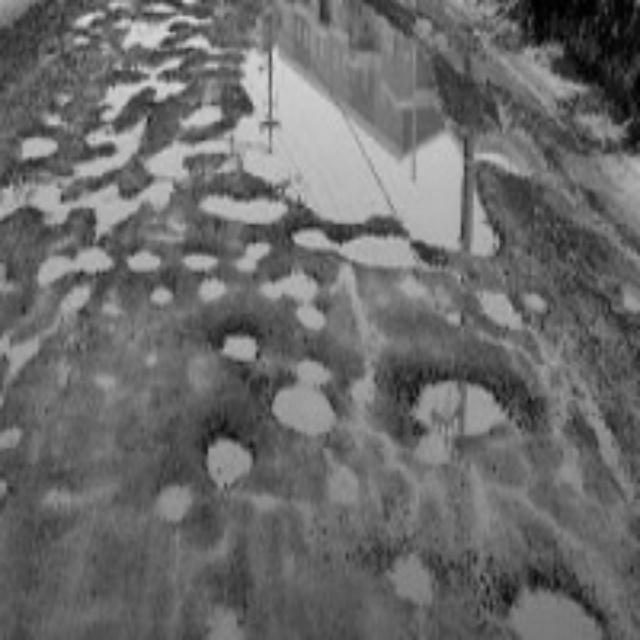Pothole: (232, 0, 537, 241), (402, 364, 509, 426), (306, 212, 414, 270), (508, 568, 602, 634), (379, 539, 442, 603), (274, 372, 328, 426), (141, 466, 195, 520), (470, 281, 528, 330), (201, 195, 295, 222), (43, 251, 120, 282), (204, 590, 248, 640), (195, 434, 242, 480), (281, 264, 325, 306), (207, 328, 256, 358), (287, 302, 323, 339), (177, 240, 219, 269), (17, 136, 54, 164), (230, 239, 262, 269), (132, 244, 160, 269), (151, 285, 175, 304)
Surface Erosion: (0, 1, 234, 232)
